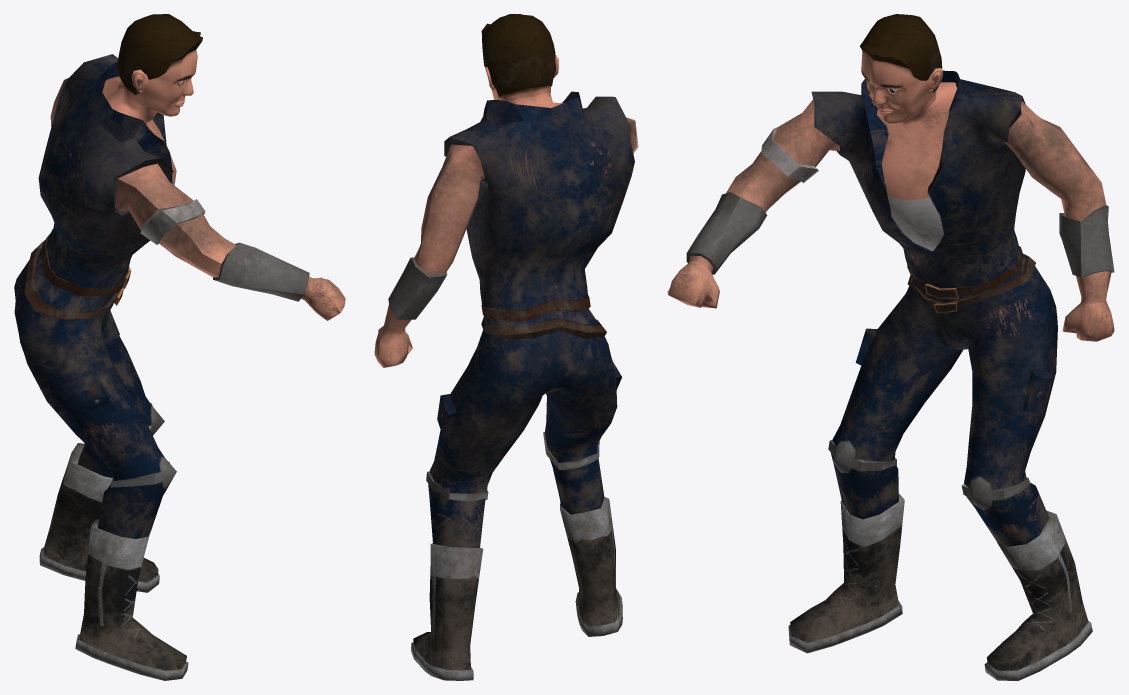
The model's file is Anim_interruptor_jugador.0028.obj.
3 renders of one model, left to right at view 1: azimuth 30°, elevation 25°; view 2: azimuth 150°, elevation 25°; view 3: azimuth 270°, elevation 25°, orthographic. The views are drawn at different scales.
Parts seen in each view (by area): view 1: polySurface1; view 2: polySurface1; view 3: polySurface1.
Boxes of the visible parts, left/top/right/bottom form: polySurface1: left=14, top=14, right=345, bottom=680; polySurface1: left=374, top=14, right=638, bottom=680; polySurface1: left=667, top=14, right=1114, bottom=680.
Size of the model in its own units: 3.1 by 9.11 by 5.73.
